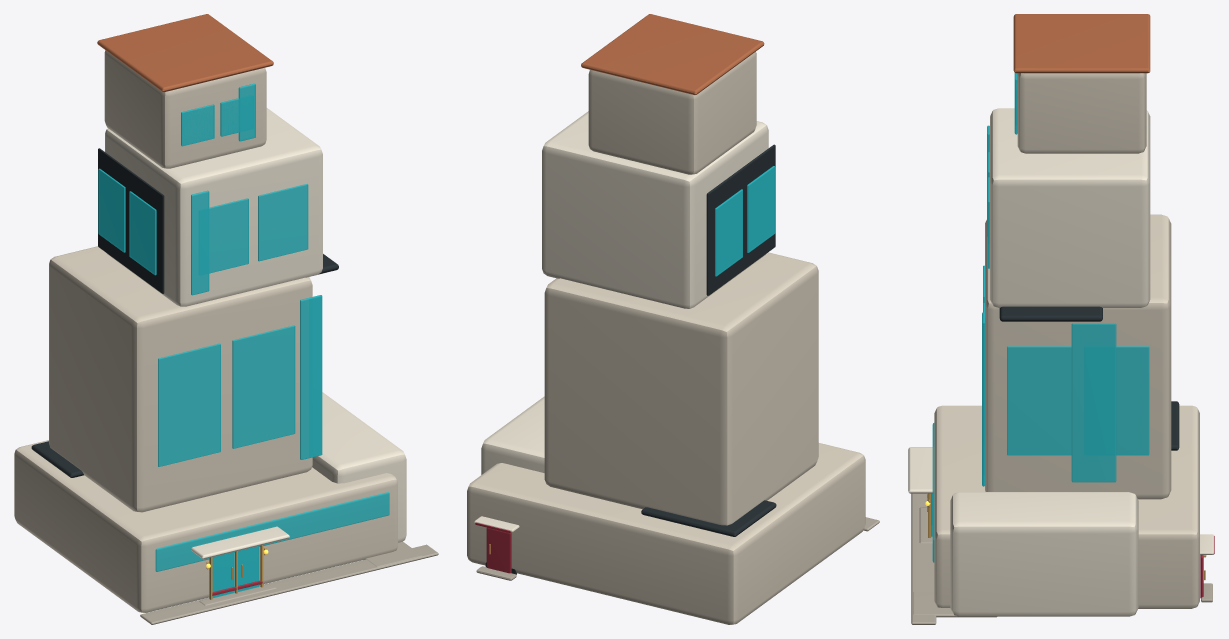
The model's file is compact_podium_glass_tower_v1_lod1.glb.
The picture shows the model from 3 angles, left to right: view 1: azimuth 30°, elevation 25°; view 2: azimuth 150°, elevation 25°; view 3: azimuth 270°, elevation 25°; orthographic projection. The views are drawn at different scales.
Parts seen in each view (by area): view 1: compact_podium_glass_tower_v1_LOD1; view 2: compact_podium_glass_tower_v1_LOD1; view 3: compact_podium_glass_tower_v1_LOD1.
Boxes of the visible parts, left/top/right/bottom form: compact_podium_glass_tower_v1_LOD1: left=14, top=14, right=438, bottom=624; compact_podium_glass_tower_v1_LOD1: left=467, top=14, right=879, bottom=624; compact_podium_glass_tower_v1_LOD1: left=908, top=14, right=1214, bottom=624.
Bounding box in the file's own units: 17.2 × 27.81 × 15.44.
